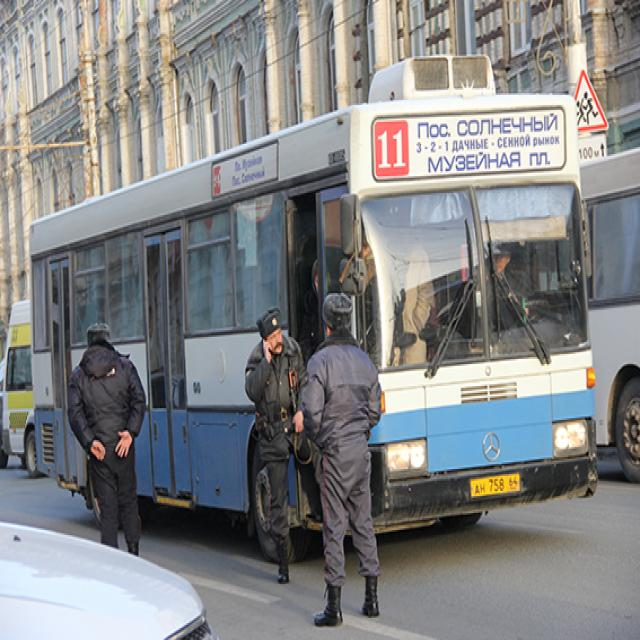number-of-bus: (377, 123, 408, 173)
